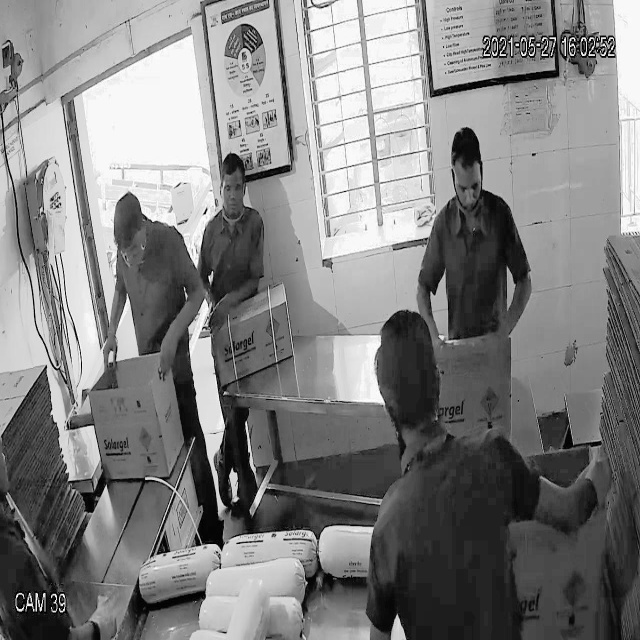Sin_gafas: (448, 168, 488, 204)
